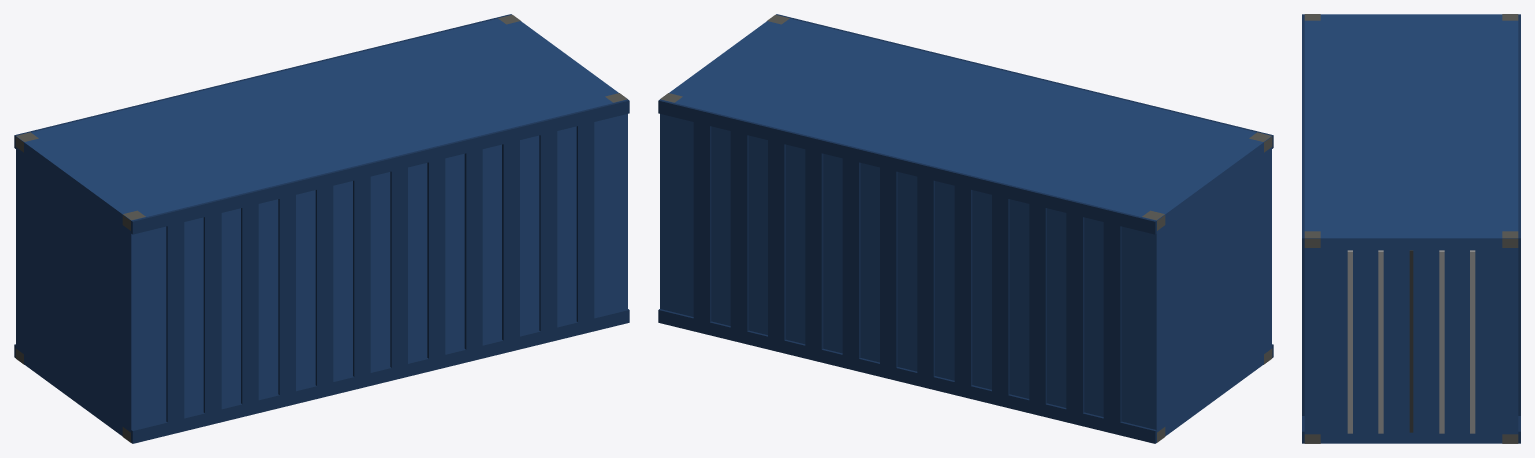
Rendered from industrial.yard.container_blue.glb.
3 views of the same model, side by side, from view 1: azimuth 30°, elevation 25°; view 2: azimuth 150°, elevation 25°; view 3: azimuth 270°, elevation 25° (orthographic). The views are drawn at different scales.
Visible parts, largest first — view 1: main__paint_247, main__paint_236, main__paint_555; view 2: main__paint_247, main__paint_236, main__paint_555; view 3: main__paint_247, main__paint_999, main__paint_236, main__paint_555, main__paint_333.
Boxes of the visible parts, bbox=[...] form: main__paint_247: bbox=[16, 18, 627, 442]; main__paint_236: bbox=[14, 14, 629, 443]; main__paint_555: bbox=[15, 14, 627, 442]; main__paint_247: bbox=[660, 18, 1271, 442]; main__paint_236: bbox=[658, 14, 1273, 443]; main__paint_555: bbox=[660, 14, 1272, 442]; main__paint_247: bbox=[1304, 14, 1518, 443]; main__paint_999: bbox=[1347, 250, 1475, 433]; main__paint_236: bbox=[1302, 14, 1520, 443]; main__paint_555: bbox=[1304, 14, 1518, 443]; main__paint_333: bbox=[1409, 250, 1413, 432].
Bounding box in the file's own units: 6.11 × 2.6 × 2.5.
